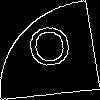O: (25, 25, 75, 77)
